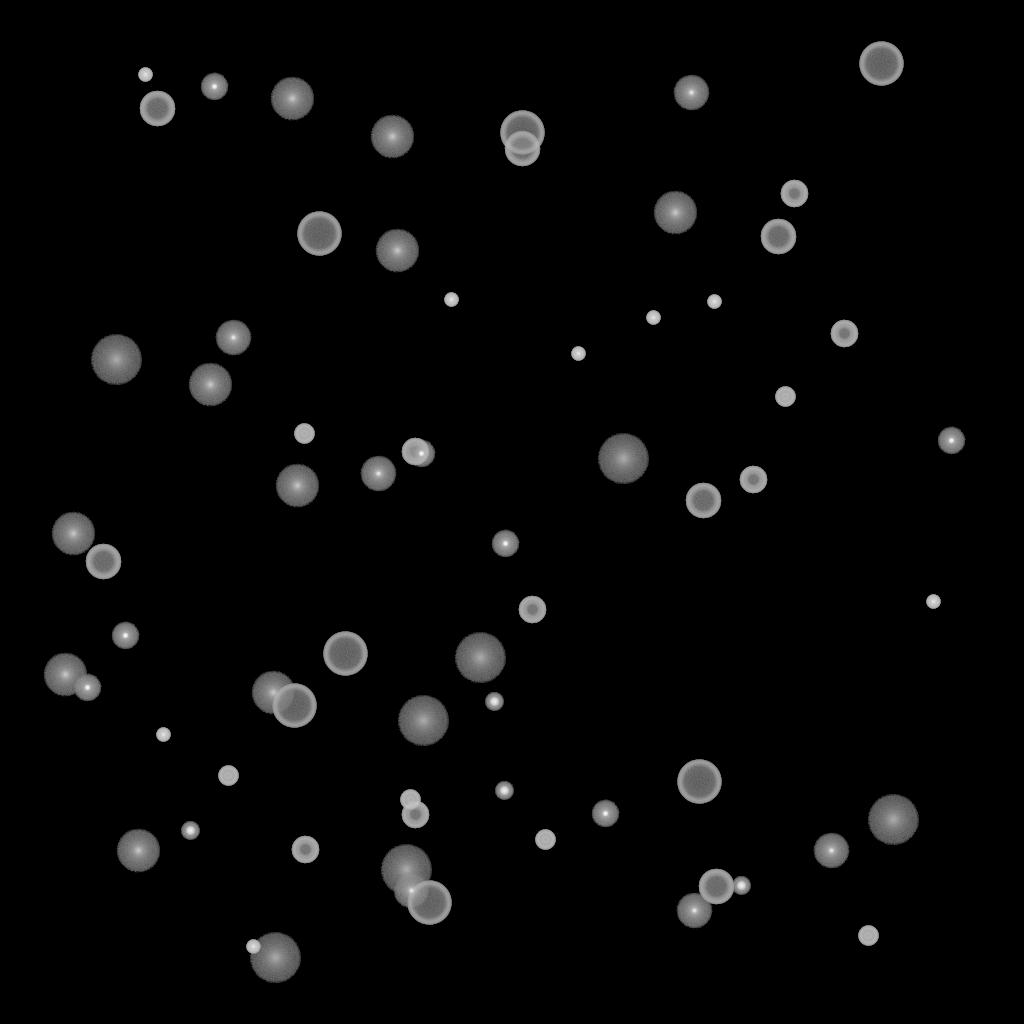depth:-10: (407, 440, 435, 468), (937, 427, 965, 455), (491, 530, 519, 558), (200, 73, 228, 101), (73, 674, 101, 702), (111, 622, 139, 650), (591, 800, 619, 828)
depth:-20: (485, 693, 503, 711), (732, 877, 750, 895), (495, 782, 513, 800), (181, 822, 199, 840)
depth:-30: (138, 68, 152, 82), (571, 347, 585, 361), (246, 940, 260, 954), (444, 293, 458, 307), (707, 295, 721, 309), (156, 728, 170, 742), (646, 311, 660, 325), (926, 595, 940, 609)
depth:-40: (858, 926, 878, 946), (218, 766, 238, 786), (294, 424, 314, 444), (400, 790, 420, 810), (775, 387, 795, 407), (535, 830, 555, 850)
depth:-50: (830, 320, 858, 348), (739, 466, 767, 494), (518, 596, 546, 624), (401, 801, 429, 829), (291, 836, 319, 864), (780, 180, 808, 208), (401, 438, 429, 466)
depth:-60: (504, 131, 540, 167), (139, 91, 175, 127), (760, 219, 796, 255), (698, 869, 734, 905), (85, 544, 121, 580), (685, 483, 721, 519)
depth:-70: (407, 881, 451, 925), (272, 684, 316, 728), (323, 632, 367, 676), (297, 212, 341, 256), (859, 42, 903, 86), (677, 760, 721, 804), (500, 111, 544, 155)
depth:0: (673, 75, 709, 111), (360, 456, 396, 492), (676, 893, 712, 929), (813, 833, 849, 869), (215, 320, 251, 356), (393, 873, 429, 909)
depth:10: (51, 512, 95, 556), (43, 653, 87, 697), (188, 363, 232, 407), (270, 77, 314, 121), (251, 671, 295, 715), (370, 115, 414, 159), (653, 191, 697, 235), (116, 829, 160, 873), (275, 464, 319, 508), (375, 229, 419, 273)
depth:20: (454, 633, 506, 683), (597, 434, 649, 484), (867, 795, 919, 845), (249, 933, 301, 983), (380, 845, 432, 895), (397, 696, 449, 746), (90, 335, 142, 385)
